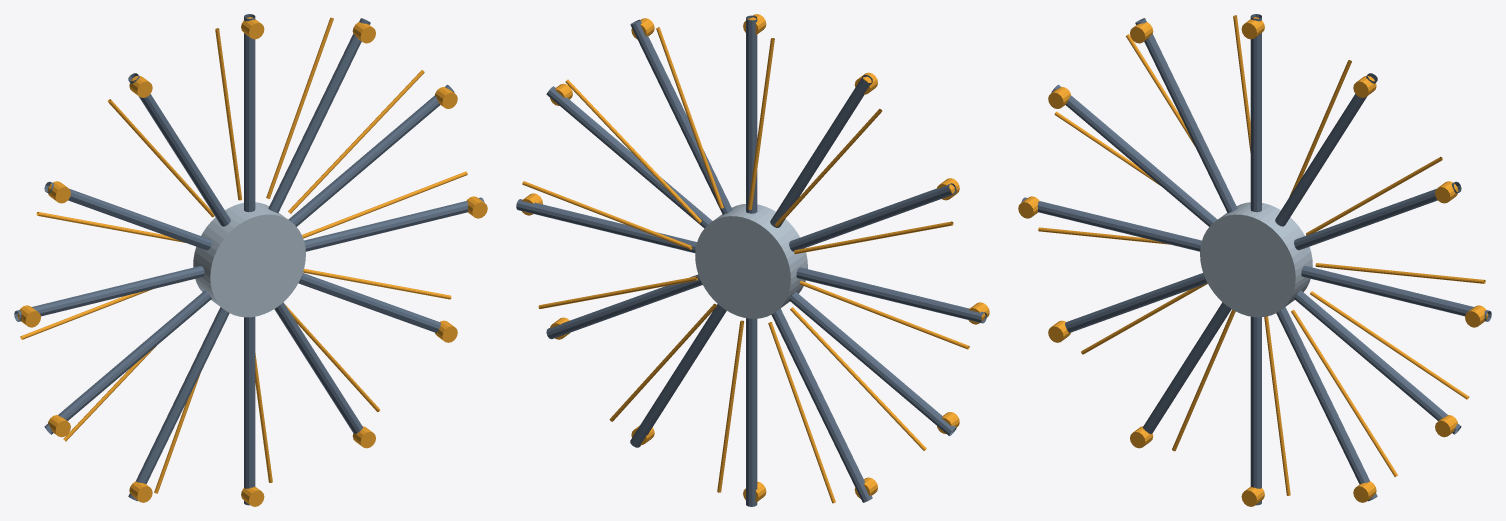
The model's file is 03_L87_RotatingHabitatSpokeAssembly.fbx.
3 views of the same model, side by side, from view 1: azimuth 30°, elevation 25°; view 2: azimuth 150°, elevation 25°; view 3: azimuth 330°, elevation 25° (orthographic).
Parts seen in each view (by area): view 1: L87_RotatingHabitatSpokeAssembly_Part_0001, L87_RotatingHabitatSpokeAssembly_Part_0002, L87_RotatingHabitatSpokeAssembly_Part_0000, L87_RotatingHabitatSpokeAssembly_Part_0003; view 2: L87_RotatingHabitatSpokeAssembly_Part_0001, L87_RotatingHabitatSpokeAssembly_Part_0002, L87_RotatingHabitatSpokeAssembly_Part_0000, L87_RotatingHabitatSpokeAssembly_Part_0003; view 3: L87_RotatingHabitatSpokeAssembly_Part_0001, L87_RotatingHabitatSpokeAssembly_Part_0000, L87_RotatingHabitatSpokeAssembly_Part_0002, L87_RotatingHabitatSpokeAssembly_Part_0003.
Part boxes in pixels (x1,y1,x2,y2): L87_RotatingHabitatSpokeAssembly_Part_0001: [14, 14, 484, 505]; L87_RotatingHabitatSpokeAssembly_Part_0002: [17, 17, 487, 502]; L87_RotatingHabitatSpokeAssembly_Part_0000: [193, 202, 305, 317]; L87_RotatingHabitatSpokeAssembly_Part_0003: [241, 268, 457, 506]; L87_RotatingHabitatSpokeAssembly_Part_0001: [516, 15, 986, 506]; L87_RotatingHabitatSpokeAssembly_Part_0002: [522, 14, 989, 503]; L87_RotatingHabitatSpokeAssembly_Part_0000: [695, 204, 807, 318]; L87_RotatingHabitatSpokeAssembly_Part_0003: [538, 276, 766, 502]; L87_RotatingHabitatSpokeAssembly_Part_0001: [1021, 14, 1491, 505]; L87_RotatingHabitatSpokeAssembly_Part_0000: [1200, 202, 1312, 317]; L87_RotatingHabitatSpokeAssembly_Part_0002: [1018, 15, 1488, 451]; L87_RotatingHabitatSpokeAssembly_Part_0003: [1241, 291, 1469, 506].
Bounding box in the file's own units: 1020 × 1020 × 65.
